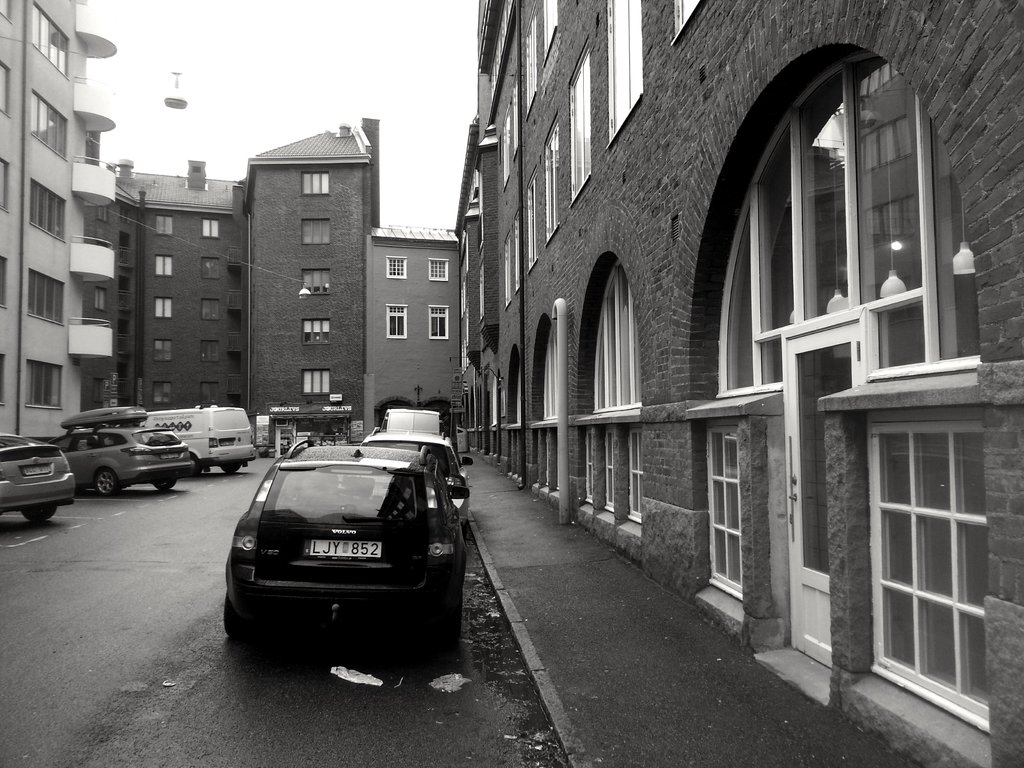license plate: (308, 536, 381, 558)
